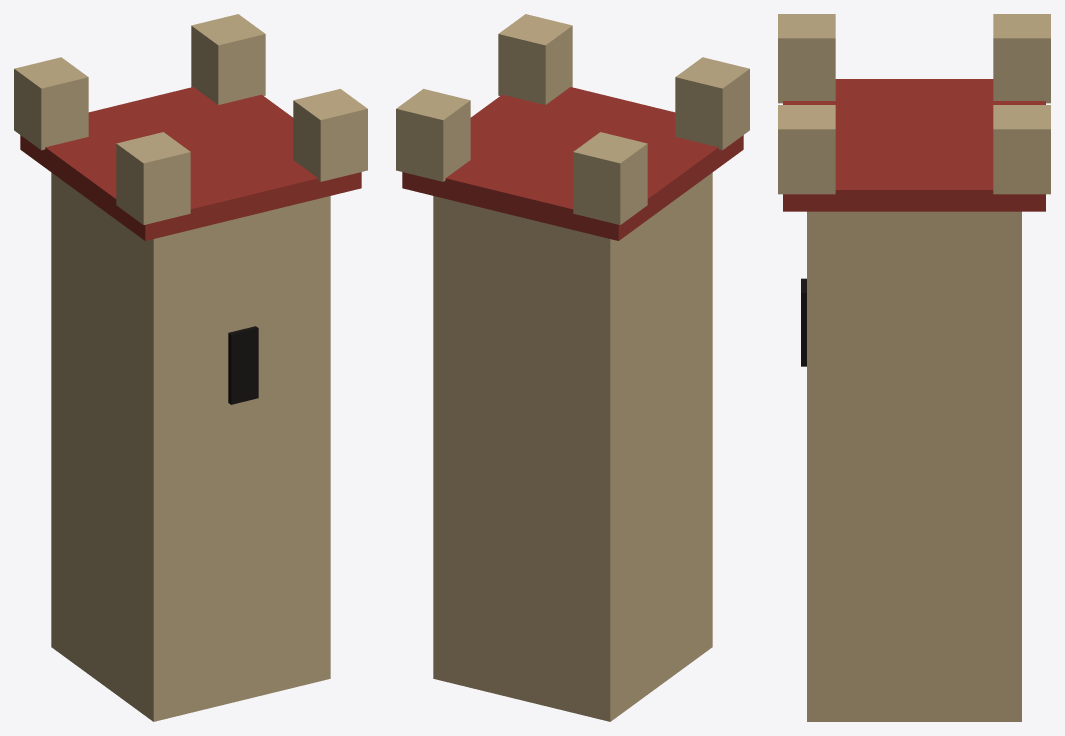
File: minotaur_tower.glb
3 views of the same model, side by side, from view 1: azimuth 30°, elevation 25°; view 2: azimuth 150°, elevation 25°; view 3: azimuth 270°, elevation 25° (orthographic). The views are drawn at different scales.
Visible parts, largest first — view 1: minotaur_tower; view 2: minotaur_tower; view 3: minotaur_tower.
Boxes of the visible parts, bbox=[...] form: minotaur_tower: bbox=[14, 14, 367, 721]; minotaur_tower: bbox=[396, 14, 749, 721]; minotaur_tower: bbox=[778, 14, 1050, 721].
Size of the model in its own units: 1.14 by 2.79 by 1.14.
